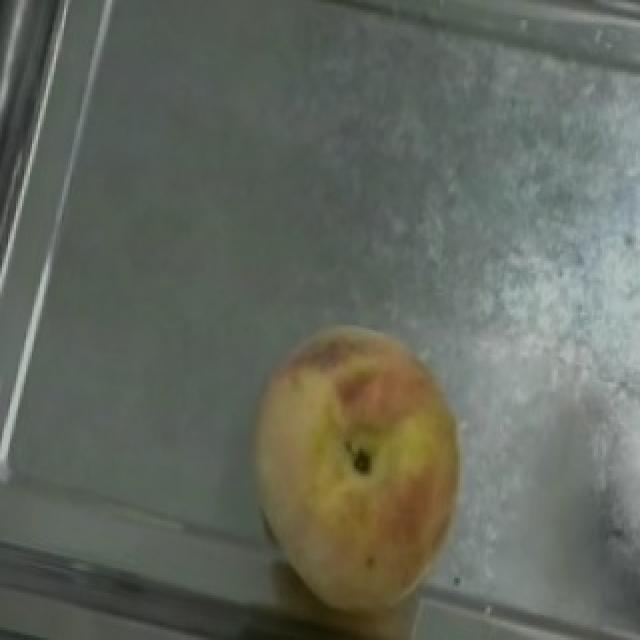Fruit: (202, 292, 504, 640)
